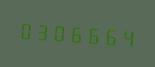four: (119, 22, 135, 51)
six: (68, 19, 84, 47), (85, 20, 101, 48), (102, 21, 118, 49)
three: (34, 17, 50, 45)
zero: (17, 15, 33, 43), (51, 18, 67, 46)
